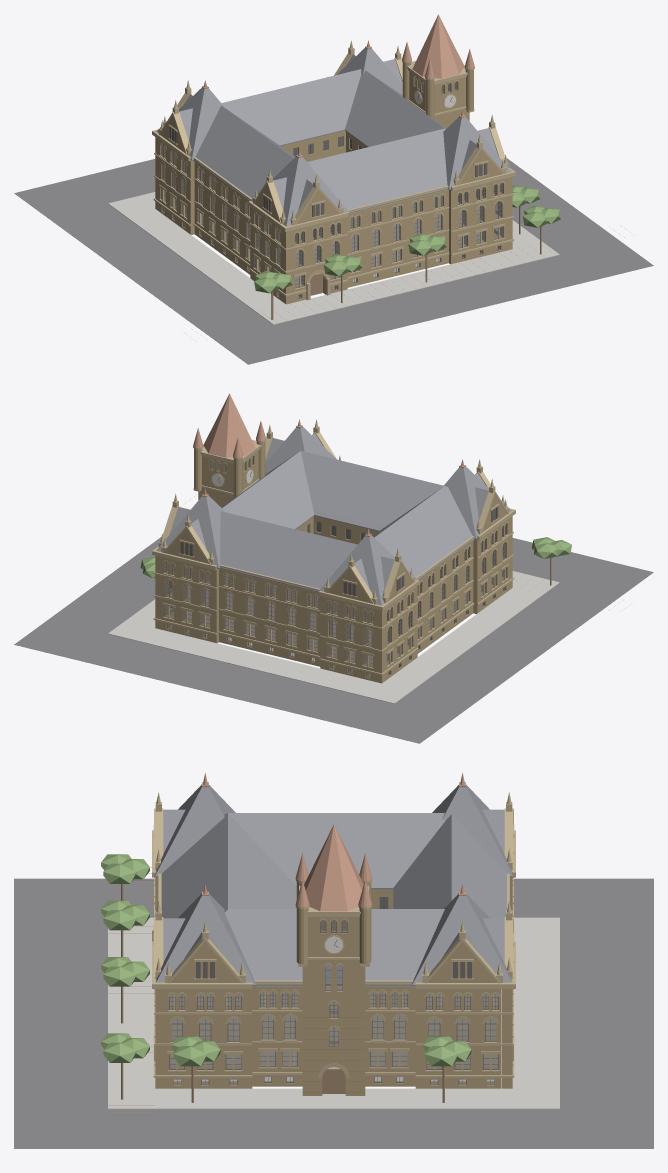
The model's file is clay-calgary-sandstone-heritage-clay-v001.glb.
3 views of the same model, one above another, from view 1: azimuth 30°, elevation 25°; view 2: azimuth 150°, elevation 25°; view 3: azimuth 270°, elevation 25° (orthographic). The views are drawn at different scales.
Parts seen in each view (by area): view 1: CLAY_ASPHALT, CLAY_ROOF, CLAY_WALL, CLAY_CONCRETE, CLAY_STONE, CLAY_GLASS, CLAY_FRAME, CLAY_PLANTING, CLAY_COPPER, CLAY_ARCH, CLAY_FLOOR, CLAY_TIMBER; view 2: CLAY_ASPHALT, CLAY_ROOF, CLAY_WALL, CLAY_STONE, CLAY_CONCRETE, CLAY_GLASS, CLAY_FRAME, CLAY_COPPER, CLAY_FLOOR, CLAY_ARCH, CLAY_PLANTING; view 3: CLAY_ASPHALT, CLAY_ROOF, CLAY_WALL, CLAY_CONCRETE, CLAY_STONE, CLAY_GLASS, CLAY_PLANTING, CLAY_FLOOR, CLAY_FRAME, CLAY_COPPER, CLAY_ARCH, CLAY_TIMBER (+1 smaller).
Boxes of the visible parts, <box> form: CLAY_ASPHALT: <box>14,158,653,364</box>; CLAY_ROOF: <box>156,48,511,226</box>; CLAY_WALL: <box>155,62,512,304</box>; CLAY_CONCRETE: <box>108,192,559,324</box>; CLAY_STONE: <box>152,40,515,300</box>; CLAY_GLASS: <box>161,79,502,298</box>; CLAY_FRAME: <box>161,77,503,298</box>; CLAY_PLANTING: <box>254,185,561,293</box>; CLAY_COPPER: <box>202,14,474,157</box>; CLAY_ARCH: <box>159,75,505,283</box>; CLAY_FLOOR: <box>201,189,497,284</box>; CLAY_TIMBER: <box>271,206,542,319</box>; CLAY_ASPHALT: <box>14,537,653,743</box>; CLAY_ROOF: <box>156,427,511,605</box>; CLAY_WALL: <box>155,441,512,683</box>; CLAY_STONE: <box>152,419,515,675</box>; CLAY_CONCRETE: <box>108,571,559,703</box>; CLAY_GLASS: <box>165,458,506,677</box>; CLAY_FRAME: <box>164,456,506,677</box>; CLAY_COPPER: <box>193,393,465,536</box>; CLAY_FLOOR: <box>170,568,466,663</box>; CLAY_ARCH: <box>162,454,508,633</box>; CLAY_PLANTING: <box>140,537,571,578</box>; CLAY_ASPHALT: <box>14,878,653,1148</box>; CLAY_ROOF: <box>154,784,513,986</box>; CLAY_WALL: <box>155,870,512,1095</box>; CLAY_CONCRETE: <box>108,917,559,1109</box>; CLAY_STONE: <box>152,773,515,1077</box>; CLAY_GLASS: <box>169,897,498,1084</box>; CLAY_PLANTING: <box>101,854,471,1066</box>; CLAY_FLOOR: <box>169,985,498,1068</box>; CLAY_FRAME: <box>169,897,498,1085</box>; CLAY_COPPER: <box>202,775,465,911</box>; CLAY_ARCH: <box>155,878,512,1077</box>; CLAY_TIMBER: <box>121,884,444,1102</box>.
Bounding box in the file's own units: 88.02 × 36.5 × 81.6.
